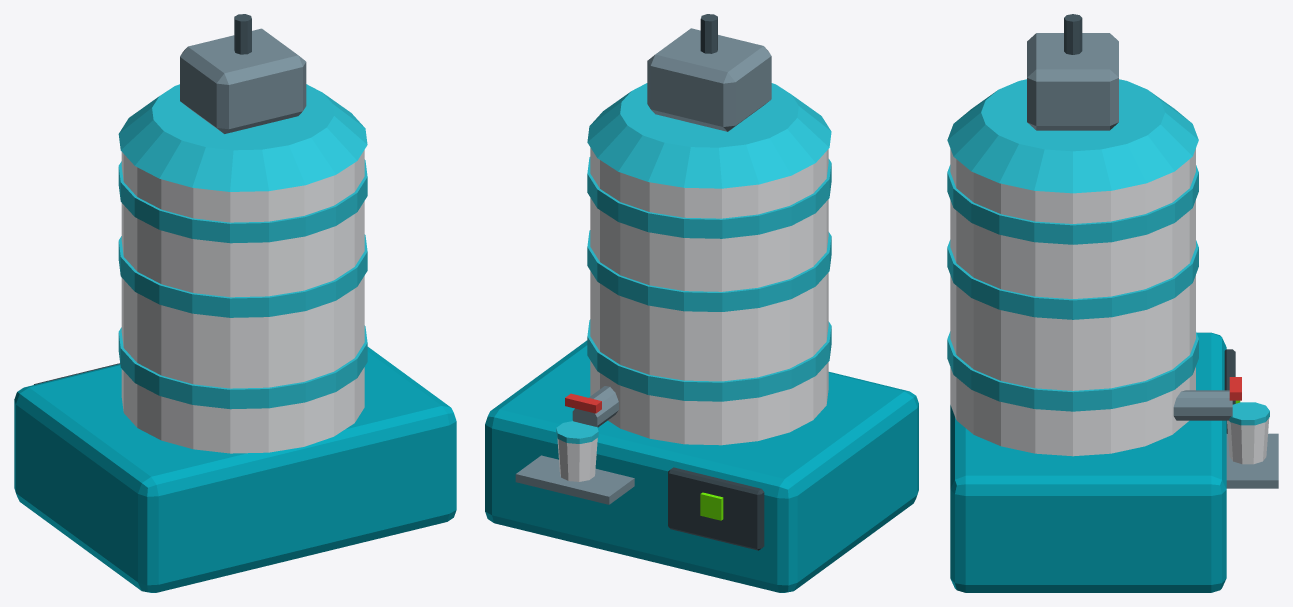
File: Makine_Ayran_M.fbx
3 views of the same model, side by side, from view 1: azimuth 30°, elevation 25°; view 2: azimuth 150°, elevation 25°; view 3: azimuth 270°, elevation 25° (orthographic). The views are drawn at different scales.
Parts seen in each view (by area): view 1: Makine_Ayran; view 2: Makine_Ayran; view 3: Makine_Ayran.
Part boxes in pixels (bbox=[...]): Makine_Ayran: bbox=[14, 14, 456, 592]; Makine_Ayran: bbox=[485, 14, 918, 592]; Makine_Ayran: bbox=[947, 14, 1278, 592].
Bounding box in the file's own units: 120 × 181 × 108.
